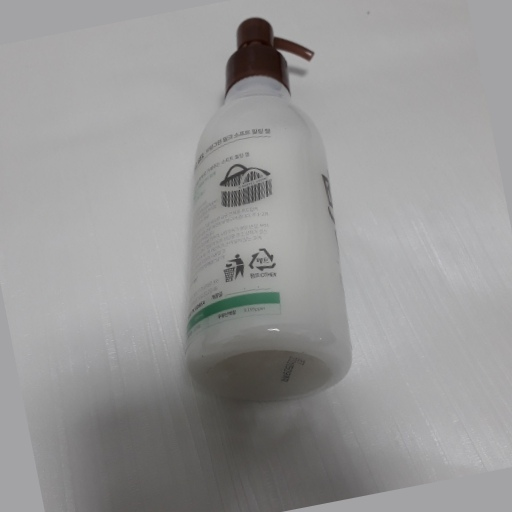Plastic_3: (185, 16, 354, 401)
